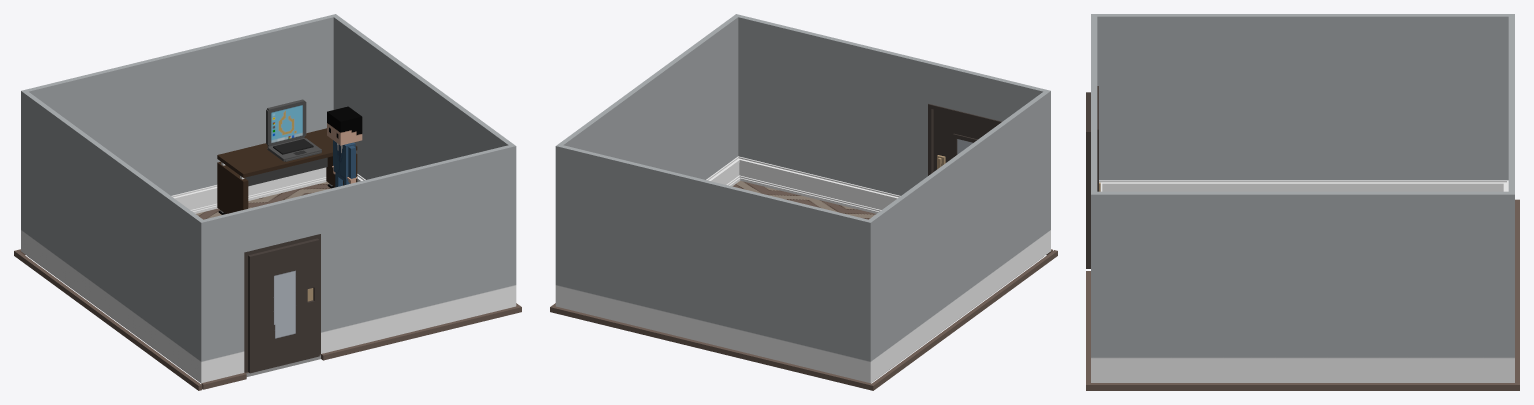
Rendered from oficina principal.fbx.
3 renders of one model, left to right at view 1: azimuth 30°, elevation 25°; view 2: azimuth 150°, elevation 25°; view 3: azimuth 270°, elevation 25°, orthographic. The views are drawn at different scales.
Visible parts, largest first — view 1: Caja_202, Caja_203, Caja_204, Caja_189, Caja_174, Caja_175, Caja_176, Caja_177, Caja_180, Caja_192, Caja_193, Caja_173 (+89 smaller); view 2: Caja_202, Caja_174, Caja_86, Caja_176, Caja_177, Caja_189, Caja_191, Caja_192, Caja_193, Caja_196, Caja_175, Caja_178 (+93 smaller); view 3: Caja_181, Caja_185, Caja_186, Caja_187, Caja_188, Caja_169, Caja_170, Caja_182, Caja_183, Caja_198, Caja_199, Caja_200 (+60 smaller).
Boxes of the visible parts, box(x1,y1,x2,y2) form: Caja_202: box(244, 234, 320, 373); Caja_203: box(217, 128, 357, 214); Caja_204: box(266, 99, 321, 161); Caja_189: box(256, 24, 296, 75); Caja_174: box(433, 154, 474, 205); Caja_175: box(395, 163, 435, 214); Caja_176: box(357, 173, 397, 224); Caja_177: box(319, 182, 359, 233); Caja_180: box(204, 210, 244, 261); Caja_192: box(179, 43, 219, 94); Caja_193: box(141, 52, 181, 103); Caja_173: box(472, 145, 512, 196); Caja_202: box(928, 103, 1001, 175); Caja_174: box(775, 24, 815, 75); Caja_86: box(811, 156, 851, 207); Caja_176: box(852, 43, 892, 94); Caja_177: box(890, 52, 930, 103); Caja_189: box(597, 154, 638, 205); Caja_191: box(636, 163, 676, 214); Caja_192: box(674, 173, 714, 224); Caja_193: box(712, 182, 752, 233); Caja_196: box(827, 210, 867, 261); Caja_175: box(813, 33, 853, 84); Caja_178: box(928, 61, 968, 112); Caja_181: box(1251, 191, 1303, 241); Caja_185: box(1303, 191, 1355, 241); Caja_186: box(1355, 191, 1407, 241); Caja_187: box(1407, 191, 1459, 241); Caja_188: box(1459, 191, 1511, 241); Caja_169: box(1096, 191, 1147, 241); Caja_170: box(1148, 191, 1199, 241); Caja_182: box(1200, 191, 1251, 241); Caja_183: box(1251, 14, 1303, 63); Caja_198: box(1407, 14, 1459, 63); Caja_199: box(1355, 14, 1407, 63); Caja_200: box(1303, 14, 1355, 63).
Size of the model in its own units: 270 by 132 by 267.
1 material, 1 textured.
